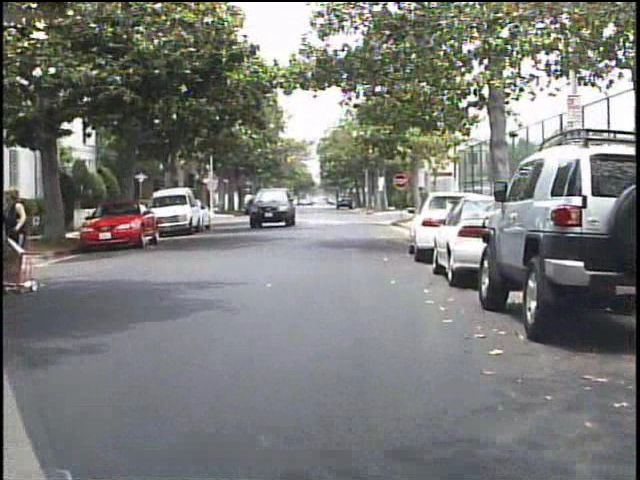person: (4, 184, 41, 297)
